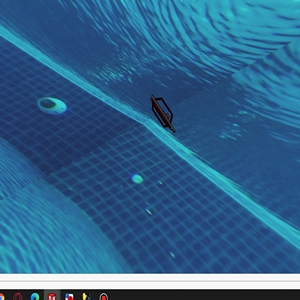submarine: (151, 93, 176, 135)
